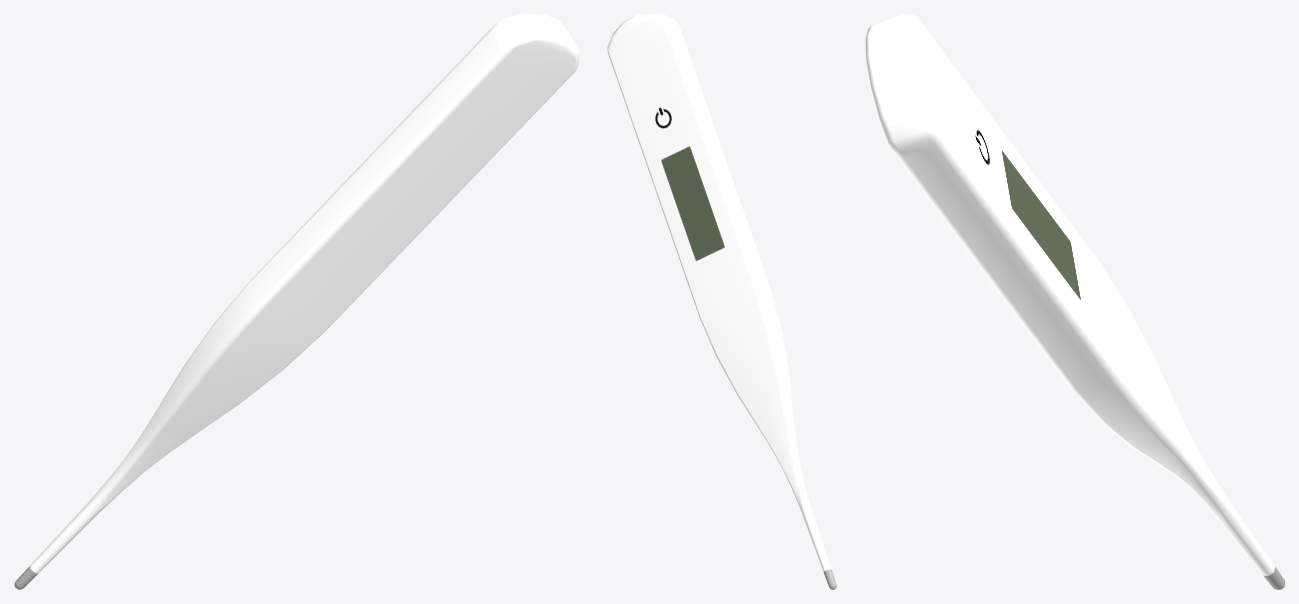
File: medicaldevice.gltf
3 views of the same model, side by side, from view 1: azimuth 30°, elevation 25°; view 2: azimuth 150°, elevation 25°; view 3: azimuth 270°, elevation 25° (orthographic). The views are drawn at different scales.
Visible parts, largest first — view 1: mk_medicaldevice; view 2: mk_medicaldevice; view 3: mk_medicaldevice.
Part boxes in pixels (left/top/right/bottom): mk_medicaldevice: left=14, top=14, right=578, bottom=589; mk_medicaldevice: left=607, top=14, right=836, bottom=589; mk_medicaldevice: left=865, top=14, right=1284, bottom=589.
Bounding box in the file's own units: 0.0579 × 0.0749 × 0.0345.
1 material, 1 textured.
